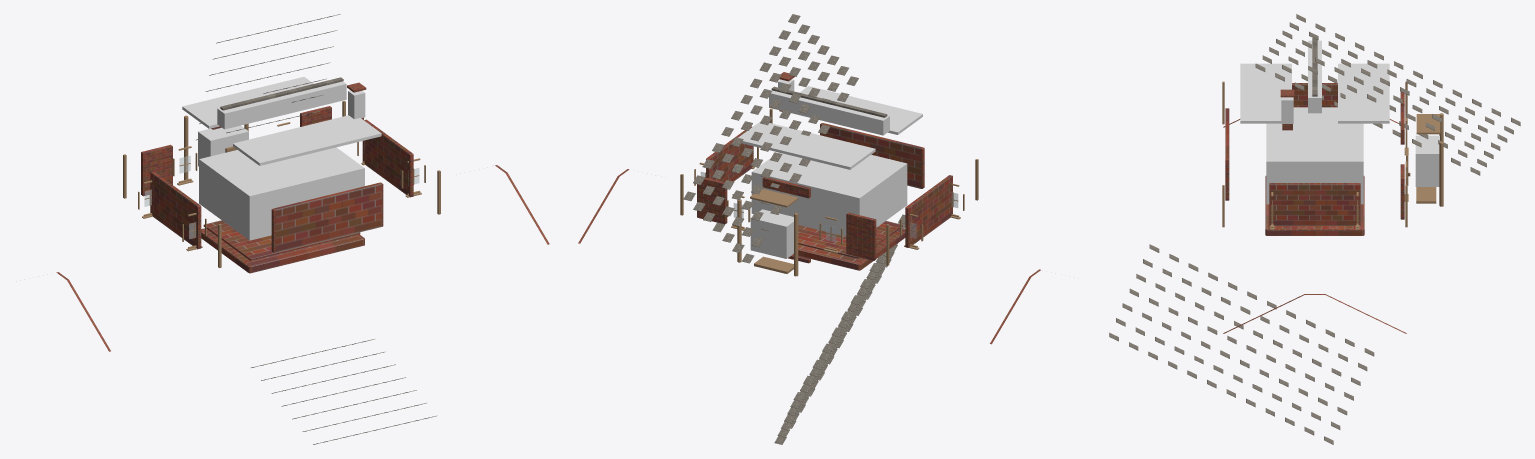
File: SM_House.glb
The picture shows the model from 3 angles, left to right: view 1: azimuth 30°, elevation 25°; view 2: azimuth 150°, elevation 25°; view 3: azimuth 270°, elevation 25°; orthographic projection. The views are drawn at different scales.
Parts seen in each view (by area): view 1: SM_House, COL_House_Body, COL_House_RoofL, COL_House_RoofPeak, COL_House_RoofR, COL_House_Porch; view 2: SM_House, COL_House_Body, COL_House_RoofR, COL_House_RoofPeak, COL_House_Porch, COL_House_RoofL; view 3: SM_House, COL_House_Body, COL_House_RoofR, COL_House_RoofL, COL_House_Porch, COL_House_RoofPeak.
Part boxes in pixels (x1,y1,x2,y2): SM_House: [56, 14, 549, 444]; COL_House_Body: [199, 147, 364, 240]; COL_House_RoofL: [233, 115, 381, 165]; COL_House_RoofPeak: [217, 81, 346, 129]; COL_House_RoofR: [182, 77, 313, 128]; COL_House_Porch: [198, 125, 248, 166]; SM_House: [578, 14, 1040, 444]; COL_House_Body: [751, 152, 907, 236]; COL_House_RoofR: [738, 121, 875, 169]; COL_House_RoofPeak: [769, 90, 889, 135]; COL_House_Porch: [750, 209, 793, 258]; COL_House_RoofL: [799, 86, 922, 134]; SM_House: [1109, 14, 1520, 444]; COL_House_Body: [1266, 107, 1363, 204]; COL_House_RoofR: [1338, 63, 1389, 123]; COL_House_RoofL: [1240, 63, 1291, 123]; COL_House_Porch: [1415, 135, 1439, 186]; COL_House_RoofPeak: [1308, 40, 1321, 113].
Size of what is drawn, in the model's own units: 16.08 by 15.44 by 13.48.
Materials: 5 (2 with a texture image).
